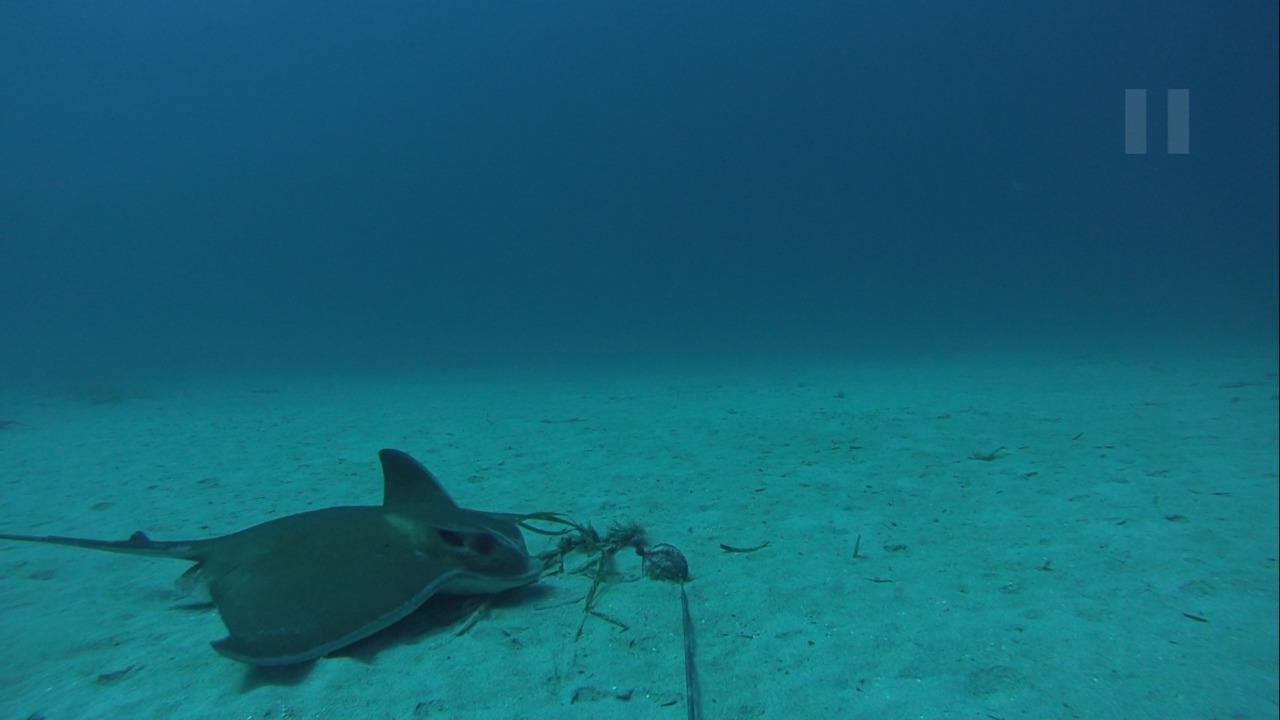myliobatis: (6, 443, 553, 675)
